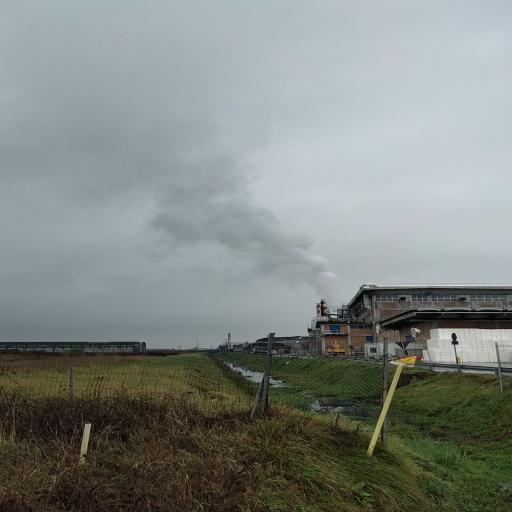leakage: (8, 104, 359, 315)
